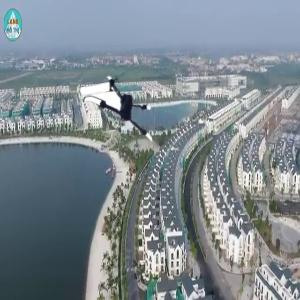drone: (87, 74, 165, 152)
